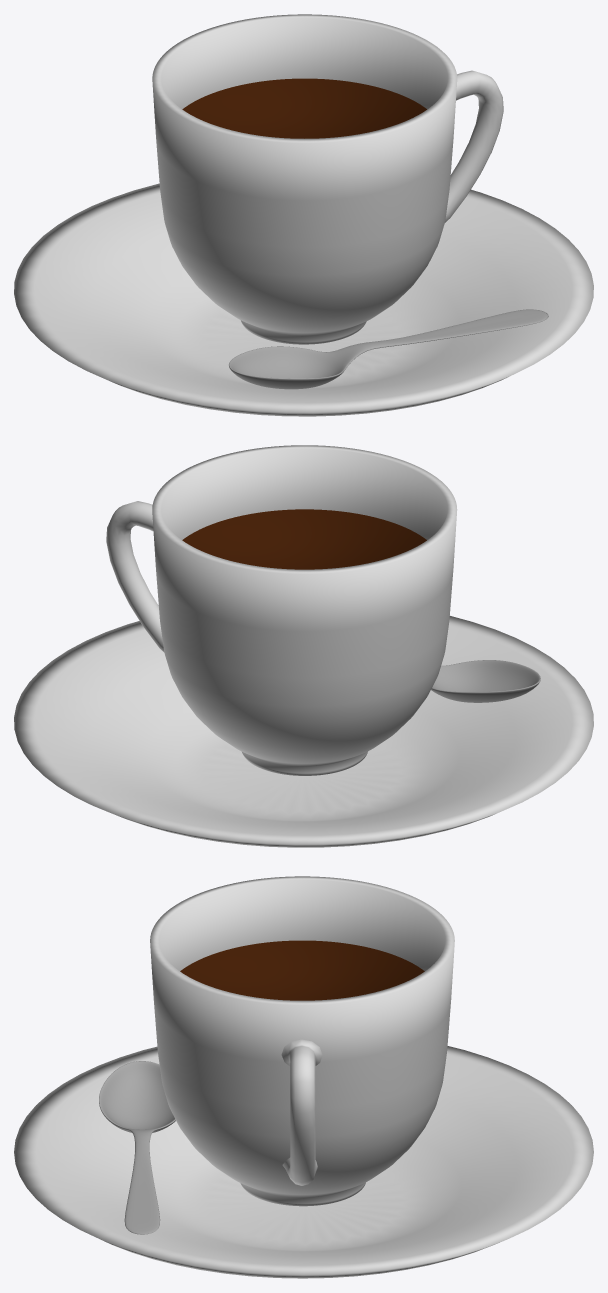
Rendered from Coffee.fbx.
3 renders of one model, top to bottom at view 1: azimuth 30°, elevation 25°; view 2: azimuth 150°, elevation 25°; view 3: azimuth 270°, elevation 25°, orthographic.
Visible parts, largest first — view 1: Coffee, Saucer, Spoon; view 2: Coffee, Saucer, Spoon; view 3: Coffee, Saucer, Spoon.
Part boxes in pixels (x1,y1,x2,y2): Coffee: (152,14,503,344); Saucer: (14,183,593,416); Spoon: (229,309,548,389); Coffee: (106,445,457,775); Saucer: (14,616,593,847); Spoon: (431,660,540,702); Coffee: (150,876,454,1206); Saucer: (14,1046,593,1278); Spoon: (99,1061,175,1234).
Bounding box in the file's own units: 39.93 × 21.04 × 39.93.
